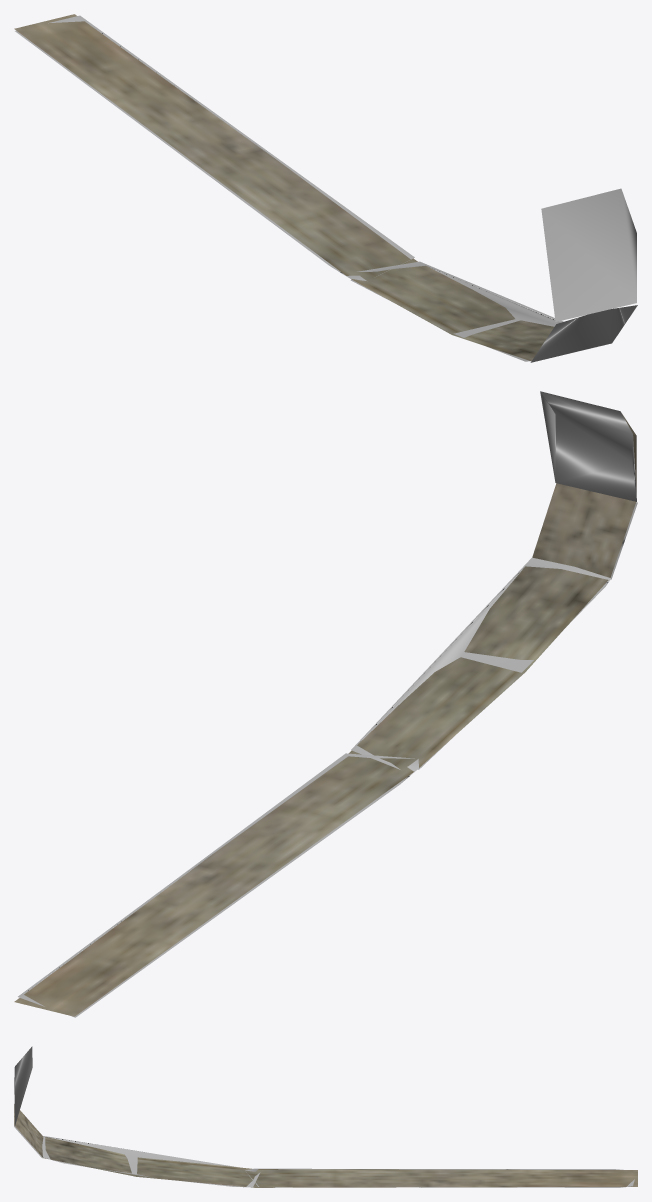
File: SM_Shaving.gltf
3 renders of one model, top to bottom at view 1: azimuth 30°, elevation 25°; view 2: azimuth 150°, elevation 25°; view 3: azimuth 270°, elevation 25°, orthographic. The views are drawn at different scales.
Visible parts, largest first — view 1: SM_Shaving_LOD0, SM_Shaving_ConvexHulls; view 2: SM_Shaving_LOD0, SM_Shaving_ConvexHulls; view 3: SM_Shaving_LOD0, SM_Shaving_ConvexHulls.
Part boxes in pixels (x1=…): SM_Shaving_LOD0: x1=14, y1=14, x2=553, y2=360; SM_Shaving_ConvexHulls: x1=15, y1=15, x2=637, y2=362; SM_Shaving_LOD0: x1=14, y1=412, x2=636, y2=1016; SM_Shaving_ConvexHulls: x1=18, y1=391, x2=637, y2=1017; SM_Shaving_LOD0: x1=14, y1=1104, x2=637, y2=1187; SM_Shaving_ConvexHulls: x1=14, y1=1046, x2=634, y2=1187.
Size of what is drawn, in the model's own units: 0.0584 by 0.1478 by 0.6808.
